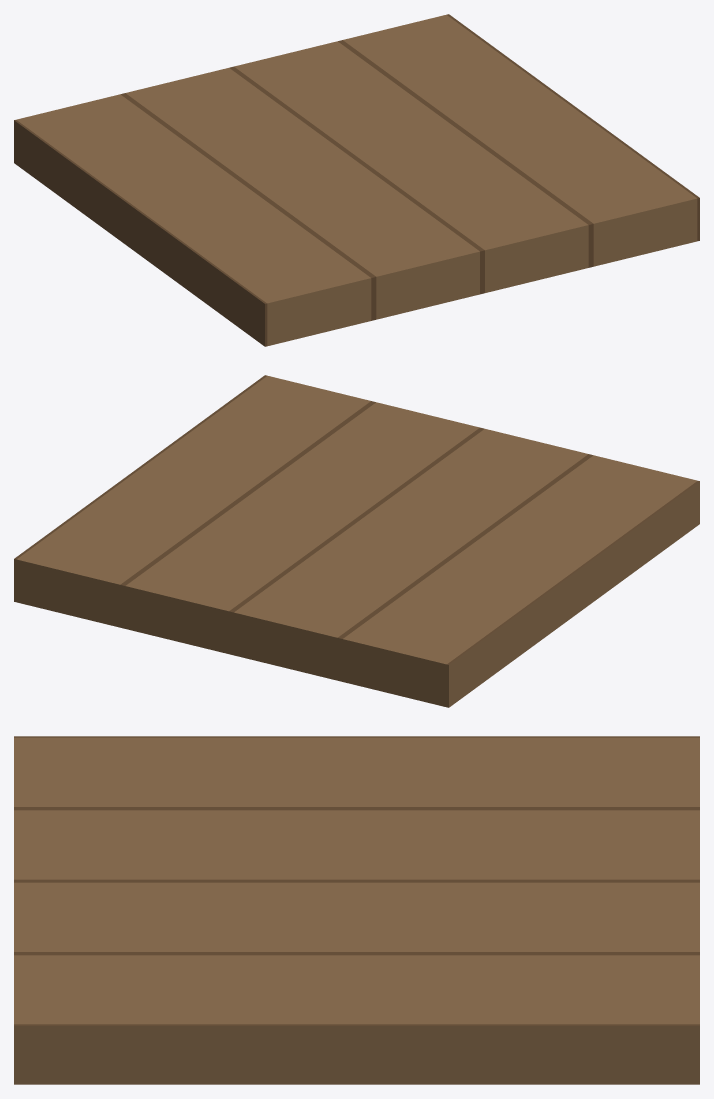
File: Floor_16_dra.glb
3 views of the same model, one above another, from view 1: azimuth 30°, elevation 25°; view 2: azimuth 150°, elevation 25°; view 3: azimuth 270°, elevation 25° (orthographic). The views are drawn at different scales.
Visible parts, largest first — view 1: Floor; view 2: Floor; view 3: Floor.
Part boxes in pixels (<box>): Floor: <box>14,14,699,346</box>; Floor: <box>14,375,699,707</box>; Floor: <box>14,736,699,1084</box>.
Size of the model in its own units: 1.25 by 0.1179 by 1.25.
1 material, 1 textured.
